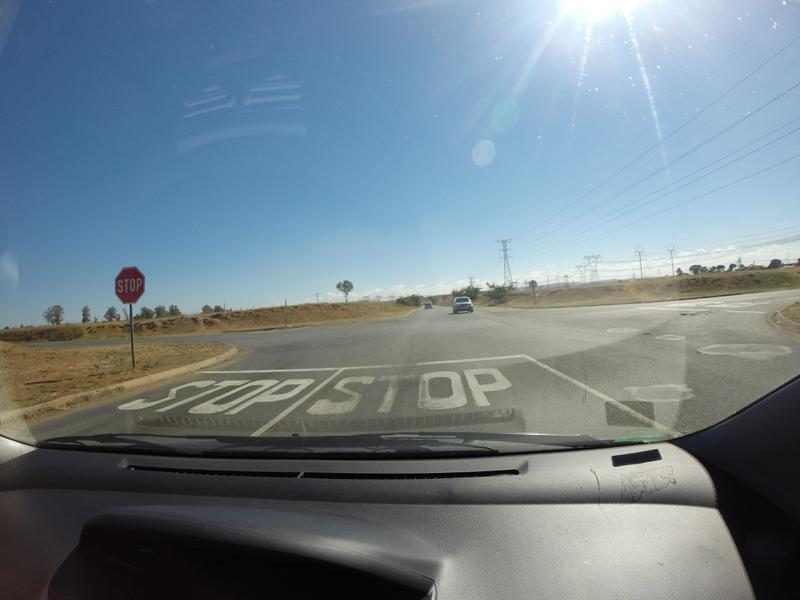pothole: (682, 308, 709, 315), (643, 331, 653, 340), (694, 348, 703, 356)
